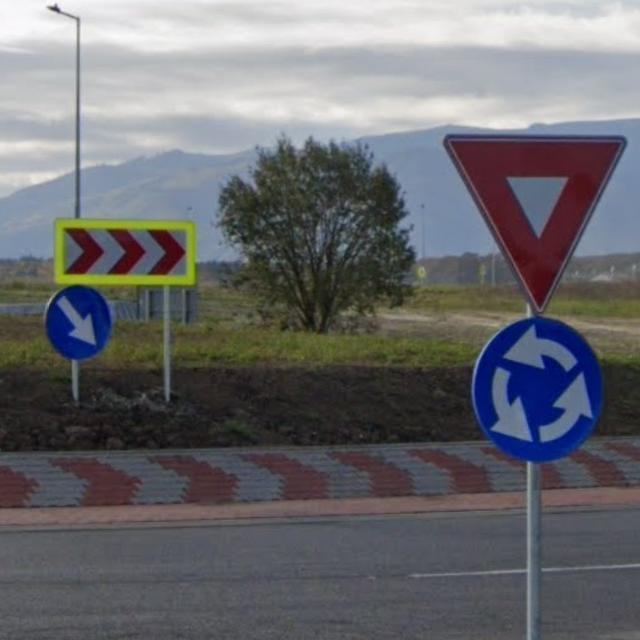prio_give_way: (445, 131, 629, 316)
